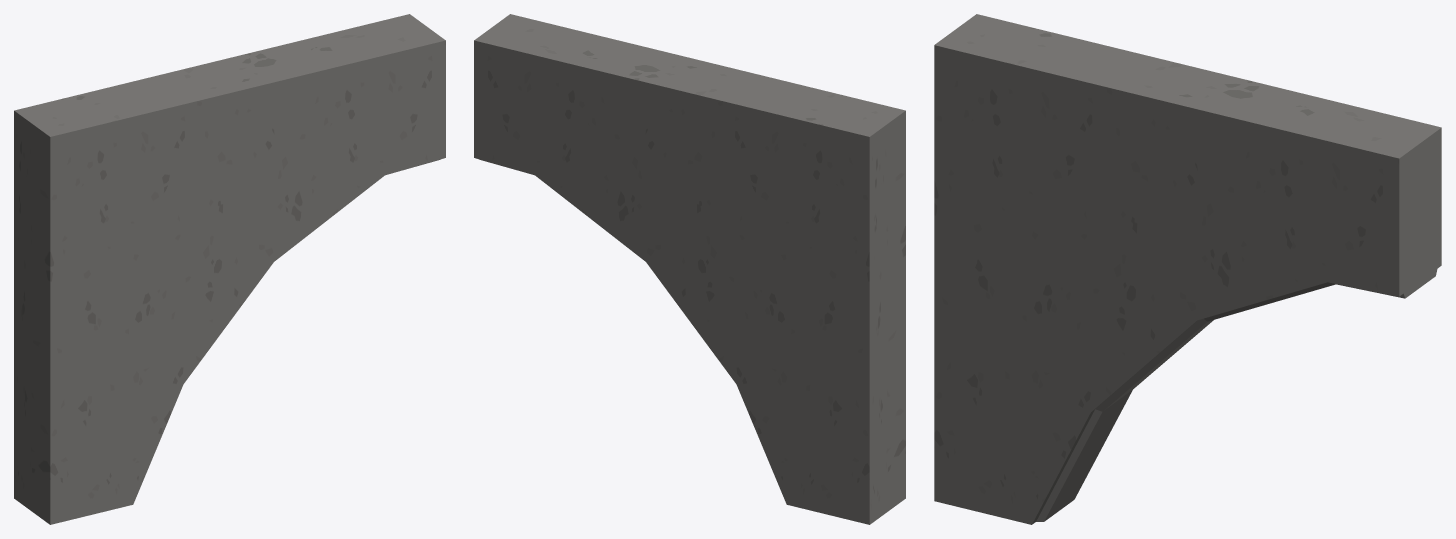
Rendered from SM_Bld_Tunnel_Curved_Pillar_02.fbx.
3 renders of one model, left to right at view 1: azimuth 30°, elevation 25°; view 2: azimuth 150°, elevation 25°; view 3: azimuth 330°, elevation 25°, orthographic. The views are drawn at different scales.
Visible parts, largest first — view 1: SM_Bld_Tunnel_Curved_Pillar_02; view 2: SM_Bld_Tunnel_Curved_Pillar_02; view 3: SM_Bld_Tunnel_Curved_Pillar_02.
Boxes of the visible parts, x1,y1,x2,y2 form: SM_Bld_Tunnel_Curved_Pillar_02: [14, 14, 445, 524]; SM_Bld_Tunnel_Curved_Pillar_02: [474, 14, 905, 524]; SM_Bld_Tunnel_Curved_Pillar_02: [934, 14, 1441, 524].
Size of the model in its own units: 320 by 300 by 50.63.
